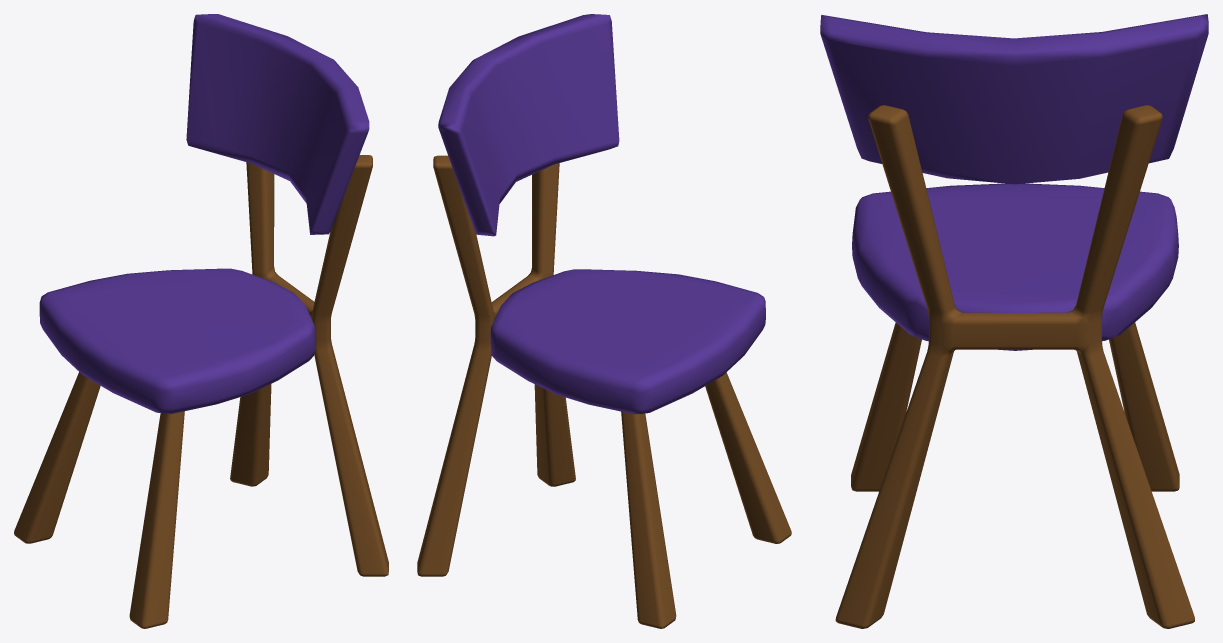
The model's file is chair_03_purple.fbx.
3 views of the same model, side by side, from view 1: azimuth 30°, elevation 25°; view 2: azimuth 150°, elevation 25°; view 3: azimuth 270°, elevation 25° (orthographic). The views are drawn at different scales.
Parts seen in each view (by area): view 1: chair_03_purple; view 2: chair_03_purple; view 3: chair_03_purple.
Boxes of the visible parts, x1=… form: chair_03_purple: x1=14, y1=14, x2=388, y2=628; chair_03_purple: x1=417, y1=14, x2=791, y2=628; chair_03_purple: x1=820, y1=14, x2=1208, y2=628.
Bounding box in the file's own units: 58.11 × 101 × 60.72.
1 material, 1 textured.
